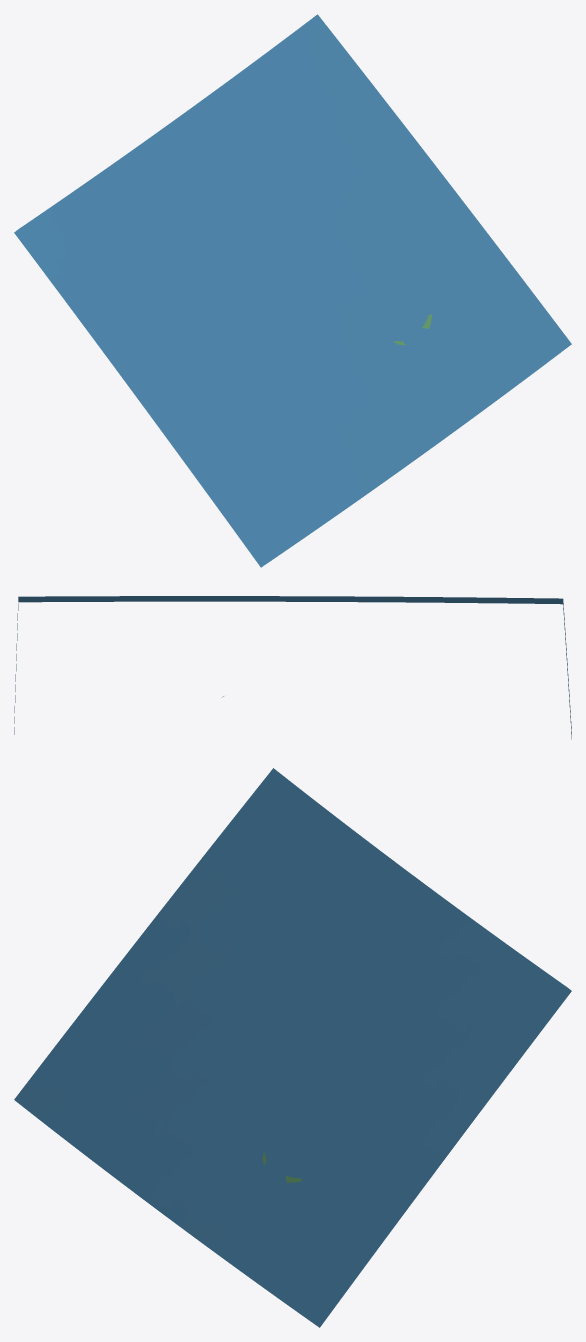
3 views of the same model, one above another, from view 1: azimuth 30°, elevation 25°; view 2: azimuth 150°, elevation 25°; view 3: azimuth 270°, elevation 25° (orthographic). The views are drawn at different scales.
Visible parts, largest first — view 1: geometry_1; view 2: geometry_1; view 3: geometry_1.
Boxes of the visible parts, x1,y1,x2,y2 form: geometry_1: (14, 14, 571, 567); geometry_1: (14, 596, 571, 739); geometry_1: (14, 768, 571, 1327).
Bounding box in the file's own units: 249845 × 113525 × 207017.
